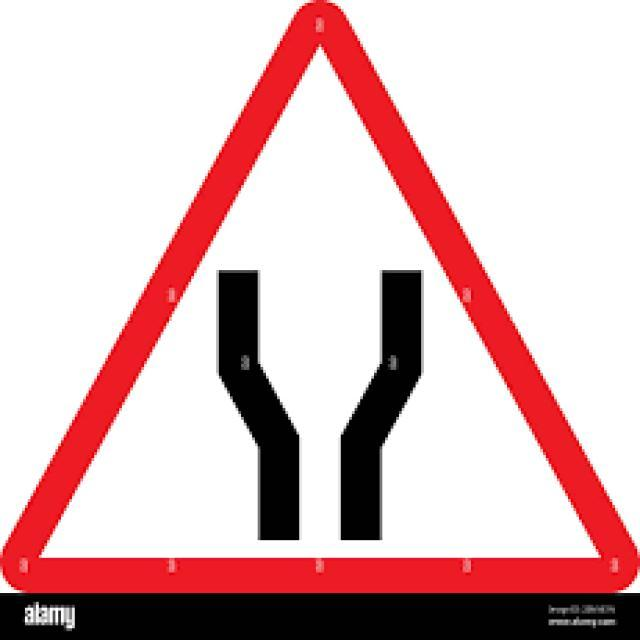road widens ahead: (18, 19, 622, 584)
